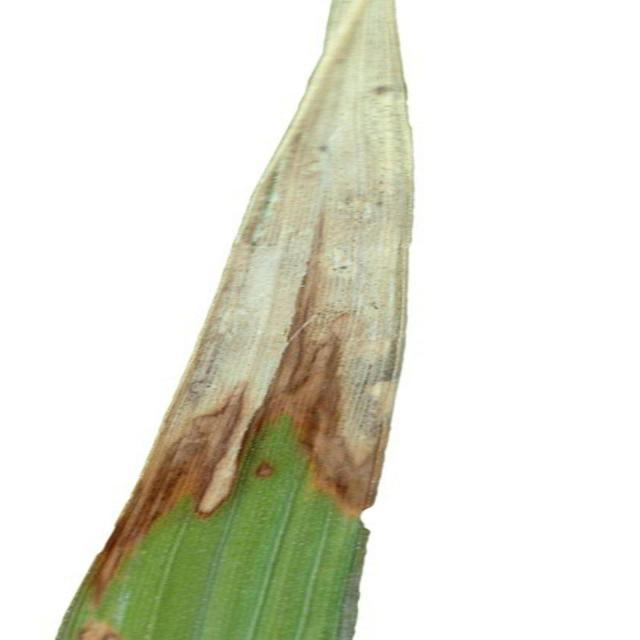Leaf scald: (35, 0, 478, 640)
